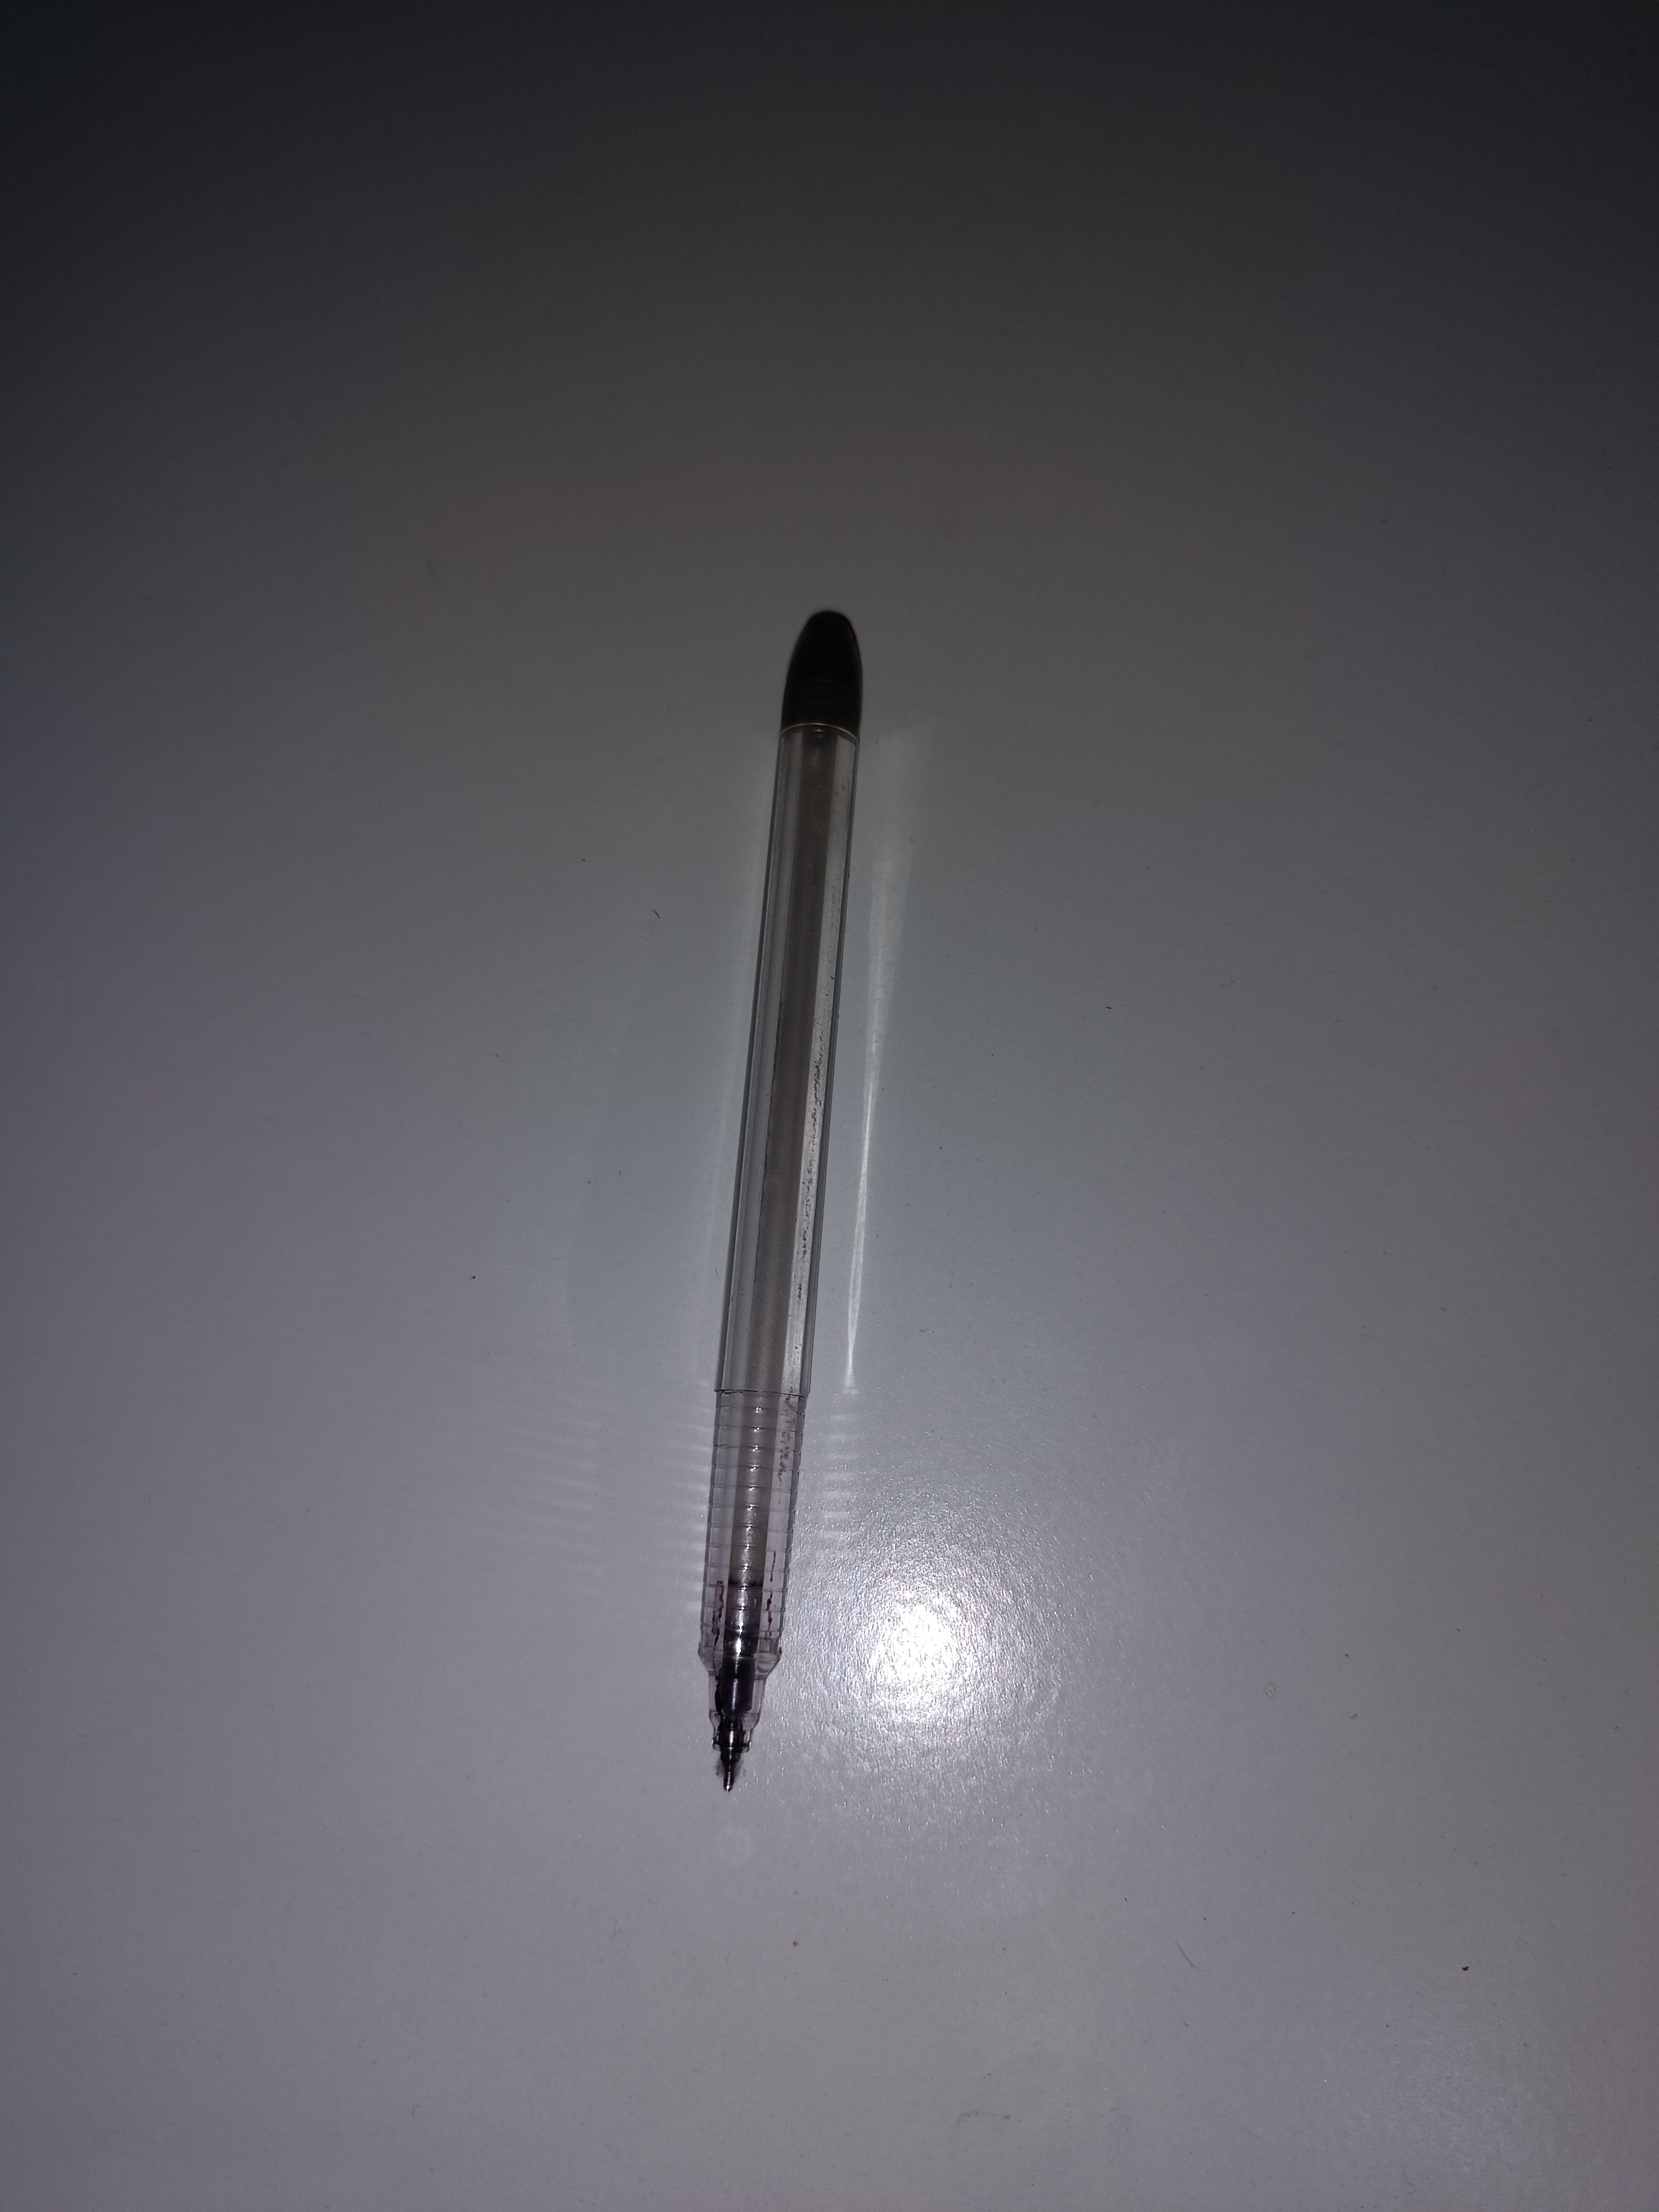Pen: (622, 531, 856, 1785)
